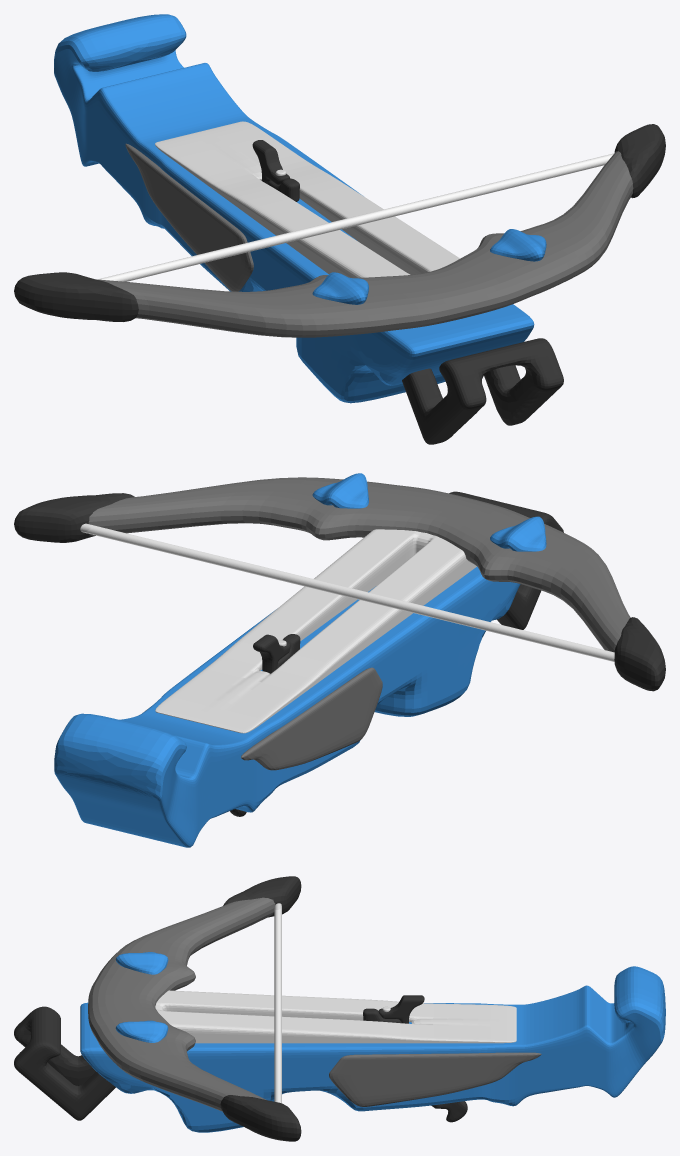
File: Bow Gun.fbx
3 renders of one model, top to bottom at view 1: azimuth 30°, elevation 25°; view 2: azimuth 150°, elevation 25°; view 3: azimuth 270°, elevation 25°, orthographic. The views are drawn at different scales.
Parts seen in each view (by area): view 1: Cube; view 2: Cube; view 3: Cube.
Part boxes in pixels (x1,y1,x2,y2): Cube: (14,14,665,444); Cube: (14,473,665,847); Cube: (14,876,665,1141).
Bounding box in the file's own units: 1014 × 265 × 1121.
